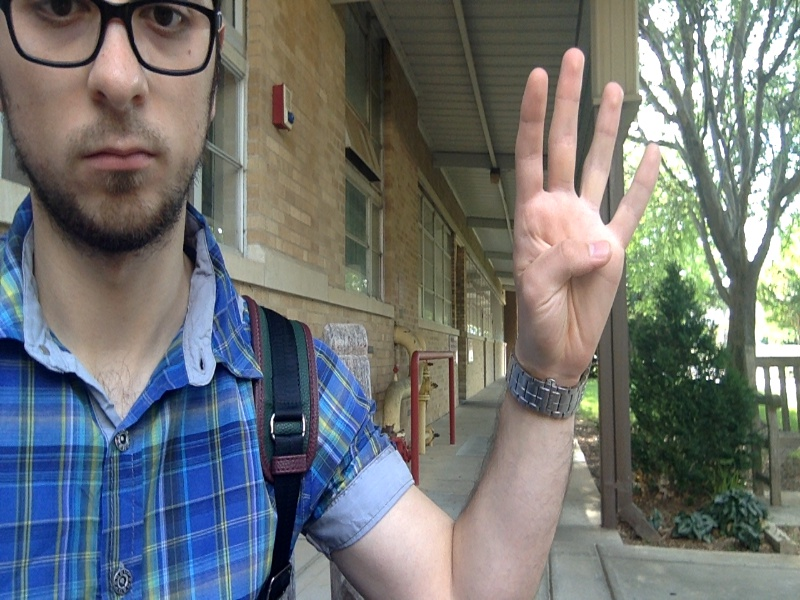4-hand: (509, 46, 657, 373)
